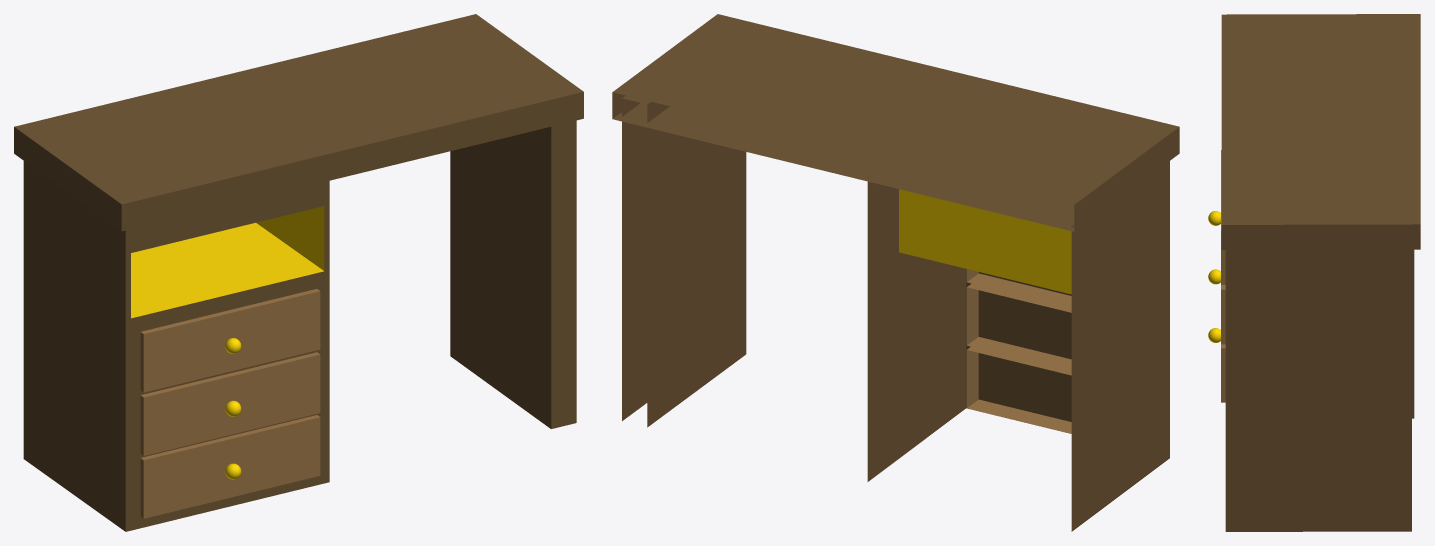
The model's file is 3desk.fbx.
3 views of the same model, side by side, from view 1: azimuth 30°, elevation 25°; view 2: azimuth 150°, elevation 25°; view 3: azimuth 270°, elevation 25° (orthographic). The views are drawn at different scales.
Visible parts, largest first — view 1: 3desk; view 2: 3desk; view 3: 3desk.
Part boxes in pixels (<box>): 3desk: <box>14,14,583,531</box>; 3desk: <box>612,14,1179,531</box>; 3desk: <box>1208,14,1420,531</box>.
Bounding box in the file's own units: 66.87 × 45.73 × 28.48.
